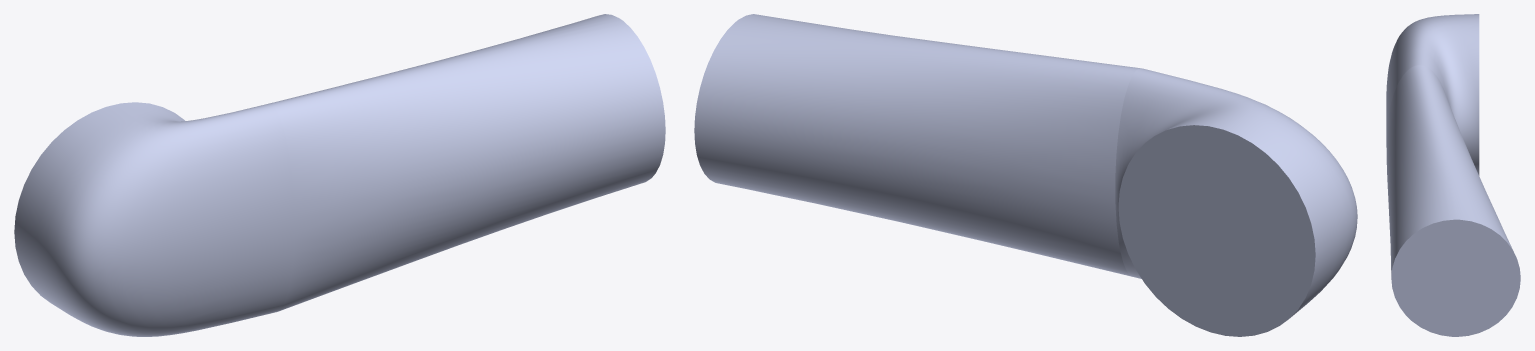
3 views of the same model, side by side, from view 1: azimuth 30°, elevation 25°; view 2: azimuth 150°, elevation 25°; view 3: azimuth 270°, elevation 25° (orthographic). The views are drawn at different scales.
Parts seen in each view (by area): view 1: Actor0; view 2: Actor0; view 3: Actor0.
Part boxes in pixels (x1,y1,x2,y2): Actor0: [14, 14, 665, 336]; Actor0: [694, 14, 1357, 336]; Actor0: [1386, 14, 1520, 336].
Size of the model in its own units: 0.2483 by 0.0825 by 0.0655.
